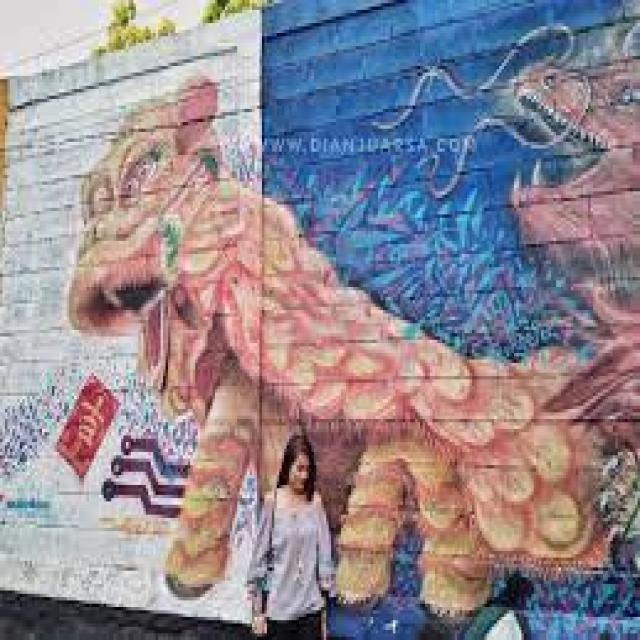-: (69, 60, 640, 600), (4, 366, 195, 522)
